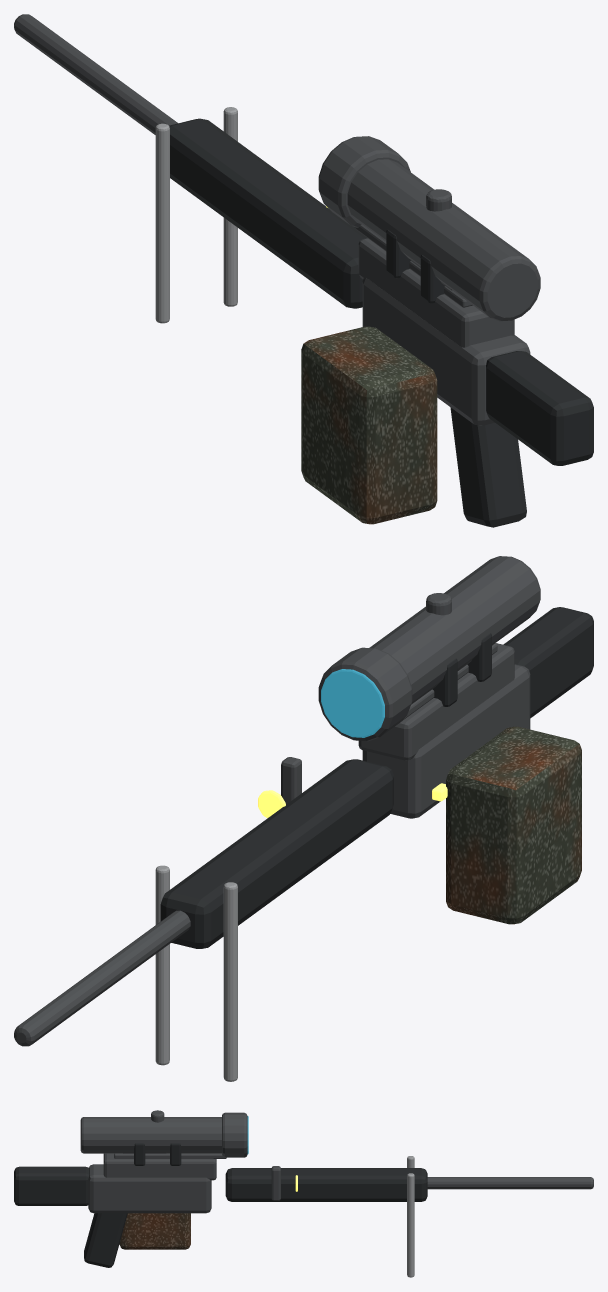
Rendered from wpn_lmg.glb.
3 views of the same model, one above another, from view 1: azimuth 30°, elevation 25°; view 2: azimuth 150°, elevation 25°; view 3: azimuth 270°, elevation 25° (orthographic). The views are drawn at different scales.
Parts seen in each view (by area): view 1: BeltBox, Handguard.004, Scope, Stock.004, Receiver.001, PistolGrip.004, Upper.001, Barrel.005, ScopeBell, BipodL, BipodR, ScopeRing (+1 smaller); view 2: BeltBox, Handguard.004, Scope, Receiver.001, Stock.004, Barrel.005, Upper.001, ScopeGlass, ScopeBell, BipodL, BipodR, Flashlight.004 (+2 smaller); view 3: Handguard.004, Scope, Receiver.001, Stock.004, BeltBox, Upper.001, Barrel.005, PistolGrip.004, ScopeBell, BipodR, TopRail.004, Flashlight.004 (+2 smaller).
Boxes of the visible parts, x1,y1,x2,y2 form: BeltBox: [301, 326, 437, 524]; Handguard.004: [169, 118, 366, 308]; Scope: [347, 159, 540, 321]; Stock.004: [486, 351, 593, 465]; Receiver.001: [362, 278, 530, 425]; PistolGrip.004: [450, 407, 526, 527]; Upper.001: [358, 238, 514, 347]; Barrel.005: [14, 14, 177, 134]; ScopeBell: [318, 136, 410, 227]; BipodL: [155, 123, 169, 323]; BipodR: [223, 107, 237, 306]; ScopeRing: [420, 255, 444, 303]; BeltBox: [446, 726, 581, 924]; Handguard.004: [160, 759, 393, 948]; Scope: [369, 556, 540, 704]; Receiver.001: [362, 664, 530, 818]; Stock.004: [503, 607, 593, 718]; Barrel.005: [14, 910, 190, 1046]; Upper.001: [358, 643, 514, 760]; ScopeGlass: [321, 669, 384, 737]; ScopeBell: [318, 647, 412, 741]; BipodL: [223, 882, 237, 1081]; BipodR: [155, 865, 169, 1065]; Flashlight.004: [281, 757, 301, 804]; Handguard.004: [225, 1168, 427, 1201]; Scope: [80, 1117, 221, 1153]; Receiver.001: [88, 1164, 211, 1213]; Stock.004: [14, 1166, 89, 1205]; BeltBox: [119, 1213, 190, 1249]; Upper.001: [103, 1153, 216, 1180]; Barrel.005: [427, 1177, 593, 1189]; PistolGrip.004: [84, 1213, 127, 1267]; ScopeBell: [222, 1112, 247, 1157]; BipodR: [407, 1173, 414, 1277]; TopRail.004: [114, 1153, 226, 1158]; Flashlight.004: [271, 1166, 280, 1200].
Bounding box in the file's own units: 0.1862 × 0.334 × 1.13.
Materials: 6 (1 with a texture image).
